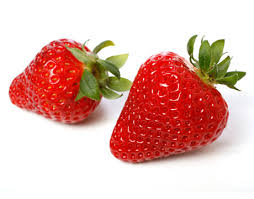strawberry: (108, 36, 242, 165), (8, 38, 122, 127)
